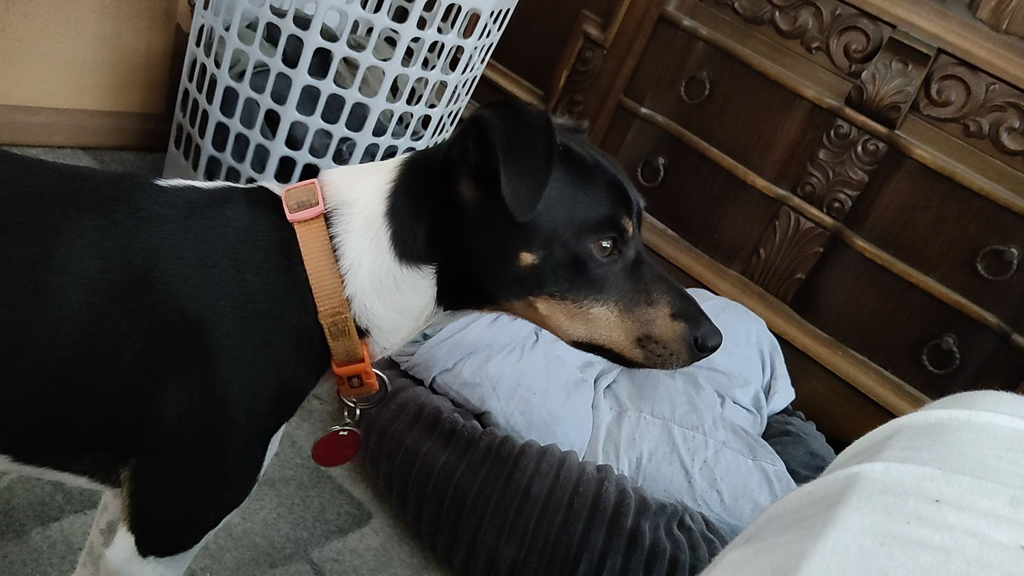Dog: (0, 82, 732, 576)
